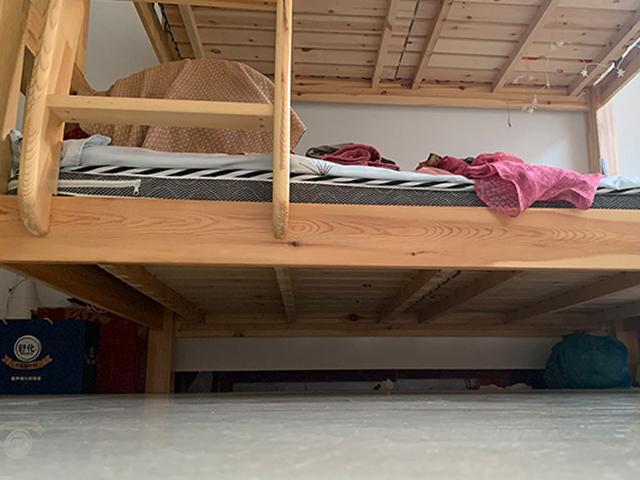bed: (1, 1, 639, 394)
